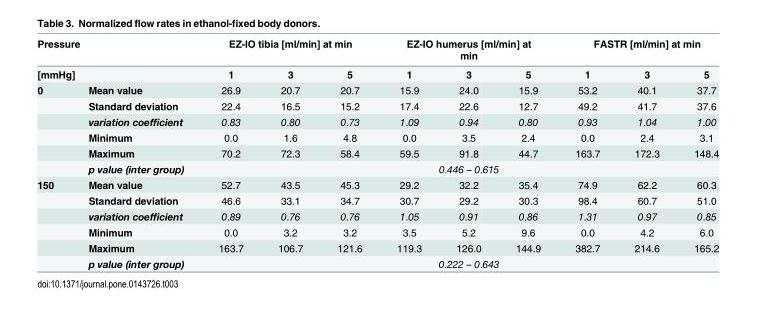table: (36, 36, 718, 269)
table column: (70, 36, 200, 269), (259, 36, 319, 269), (378, 36, 438, 269), (497, 36, 557, 269), (616, 36, 676, 269), (200, 36, 259, 269), (319, 36, 378, 269), (438, 36, 497, 269), (557, 36, 616, 269), (676, 36, 718, 269), (36, 36, 70, 269)
table column header: (36, 36, 718, 97)
table row: (36, 36, 718, 64), (36, 64, 718, 81), (36, 207, 718, 224), (36, 81, 718, 97), (36, 97, 718, 113), (36, 113, 718, 129), (36, 144, 718, 160), (36, 160, 718, 176), (36, 176, 718, 192), (36, 239, 718, 255), (36, 129, 718, 144), (36, 192, 718, 207), (36, 224, 718, 239), (36, 255, 718, 269)
table spanning cell: (200, 160, 718, 176), (36, 36, 200, 81), (200, 255, 718, 269), (378, 36, 557, 64), (200, 36, 378, 64), (557, 36, 718, 64), (36, 176, 70, 269), (259, 64, 319, 97), (378, 64, 438, 97), (497, 64, 557, 97), (616, 64, 676, 97), (200, 64, 259, 97), (319, 64, 378, 97), (438, 64, 497, 97), (557, 64, 616, 97), (676, 64, 718, 97)
